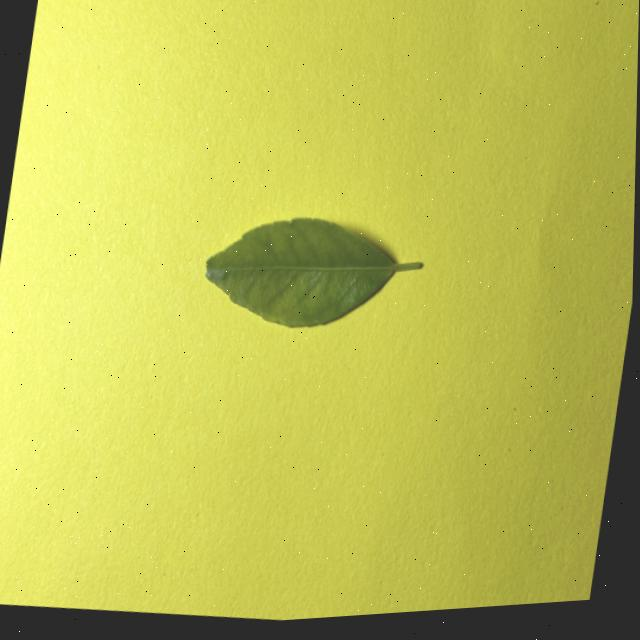greening: (205, 217, 420, 327)
